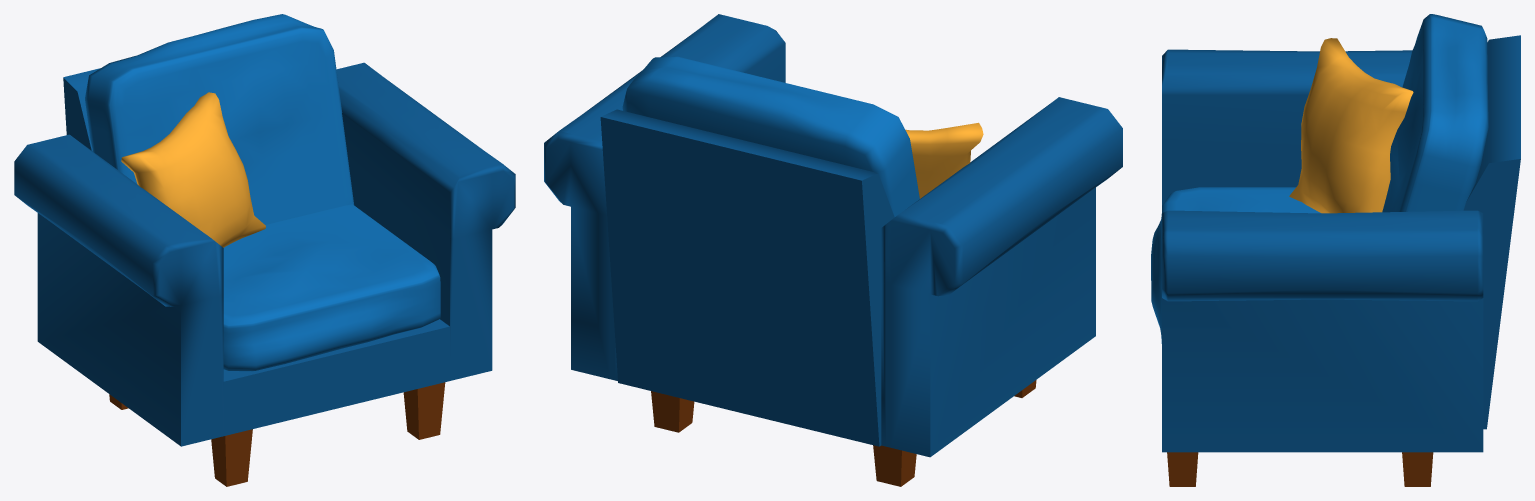
Rendered from geo_ArmChair.fbx.
3 views of the same model, side by side, from view 1: azimuth 30°, elevation 25°; view 2: azimuth 150°, elevation 25°; view 3: azimuth 270°, elevation 25° (orthographic). The views are drawn at different scales.
Parts seen in each view (by area): view 1: pCube40, pCube53, pCube39, pCube52, pCube14, pCube41, pCube31; view 2: pCube31, pCube40, pCube53, pCube39, pCube41, pCube14; view 3: pCube39, pCube40, pCube53, pCube41, pCube31, pCube52, pCube14.
Boxes of the visible parts, bbox=[...] form: pCube40: bbox=[14, 134, 223, 446]; pCube53: bbox=[85, 14, 353, 224]; pCube39: bbox=[336, 62, 515, 380]; pCube52: bbox=[223, 204, 440, 371]; pCube14: bbox=[109, 319, 449, 486]; pCube41: bbox=[121, 92, 265, 247]; pCube31: bbox=[63, 68, 100, 151]; pCube31: bbox=[600, 109, 894, 446]; pCube40: bbox=[881, 97, 1122, 457]; pCube53: bbox=[622, 56, 919, 216]; pCube39: bbox=[544, 14, 785, 380]; pCube41: bbox=[905, 122, 983, 198]; pCube14: bbox=[651, 380, 1036, 486]; pCube39: bbox=[1162, 210, 1483, 452]; pCube40: bbox=[1162, 49, 1412, 207]; pCube53: bbox=[1382, 14, 1488, 212]; pCube41: bbox=[1289, 38, 1413, 213]; pCube31: bbox=[1463, 35, 1520, 429]; pCube52: bbox=[1151, 187, 1320, 343]; pCube14: bbox=[1167, 452, 1433, 486].
Bounding box in the file's own units: 109 × 94.06 × 85.85.
Materials: 1 (1 with a texture image).
